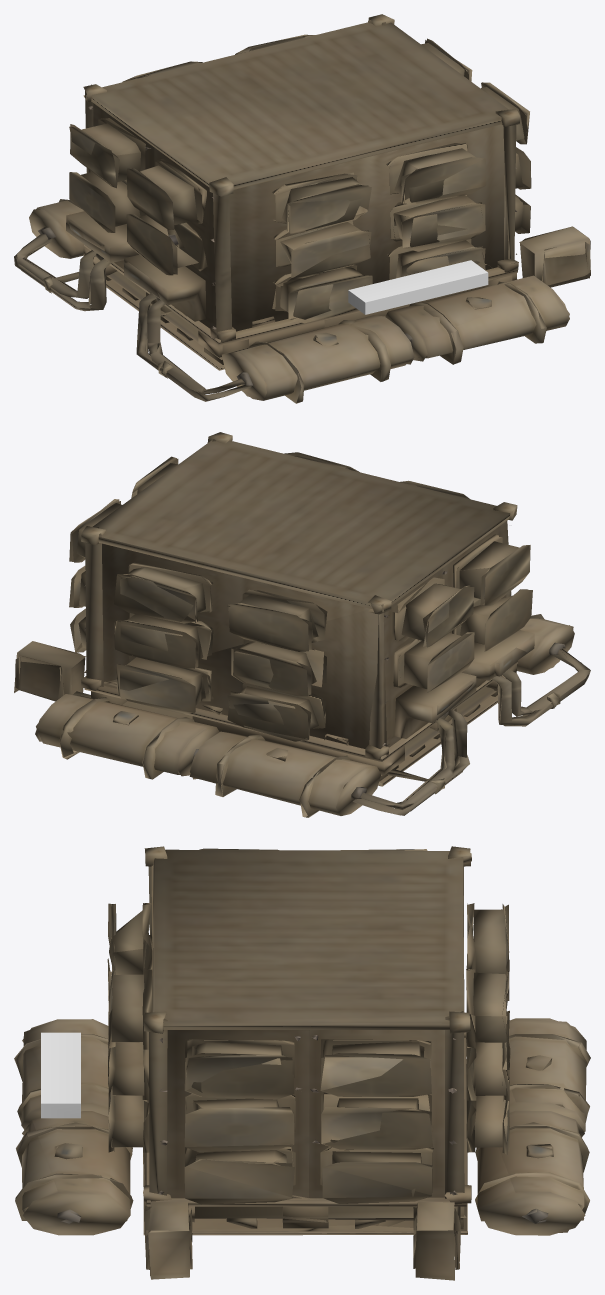
The model's file is us-power-plant.glb.
3 renders of one model, top to bottom at view 1: azimuth 30°, elevation 25°; view 2: azimuth 150°, elevation 25°; view 3: azimuth 270°, elevation 25°, orthographic. The views are drawn at different scales.
Visible parts, largest first — view 1: us-power-plant; view 2: us-power-plant; view 3: us-power-plant.
Part boxes in pixels (bbox=[...]): us-power-plant: bbox=[14, 14, 590, 403]; us-power-plant: bbox=[14, 432, 590, 817]; us-power-plant: bbox=[14, 846, 590, 1280].
Bounding box in the file's own units: 2.58 × 1.08 × 2.58.
Materials: 2 (1 with a texture image).
